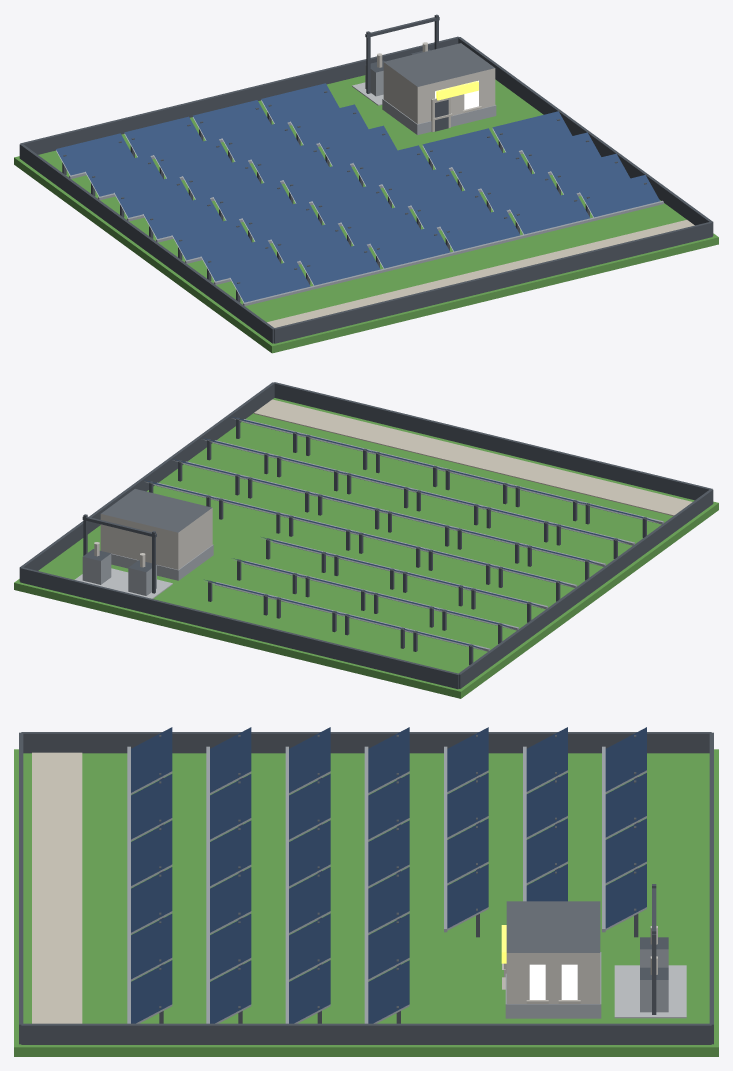
3 views of the same model, one above another, from view 1: azimuth 30°, elevation 25°; view 2: azimuth 150°, elevation 25°; view 3: azimuth 270°, elevation 25° (orthographic). The views are drawn at different scales.
Parts seen in each view (by area): view 1: b73_x2; view 2: b73_x2; view 3: b73_x2.
Part boxes in pixels (left/top/right/bottom): b73_x2: left=14, top=14, right=718, bottom=353; b73_x2: left=14, top=382, right=718, bottom=698; b73_x2: left=14, top=727, right=718, bottom=1056.
Bounding box in the file's own units: 1.96 × 0.29 × 1.96.
